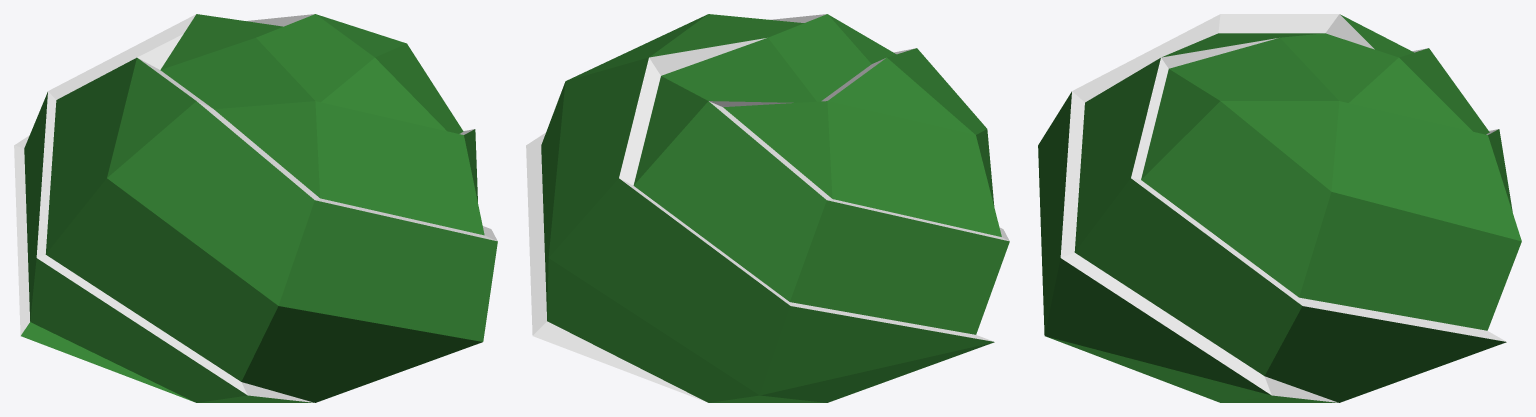
Rendered from Cabbage Village.fbx.
3 renders of one model, left to right at view 1: azimuth 30°, elevation 25°; view 2: azimuth 150°, elevation 25°; view 3: azimuth 270°, elevation 25°, orthographic.
Parts seen in each view (by area): view 1: Lettuce; view 2: Lettuce; view 3: Lettuce.
Part boxes in pixels (bbox=[...]): Lettuce: bbox=[14, 14, 497, 402]; Lettuce: bbox=[526, 14, 1009, 402]; Lettuce: bbox=[1038, 14, 1521, 402].
Size of the model in its own units: 0.5569 by 0.3928 by 0.5043.
